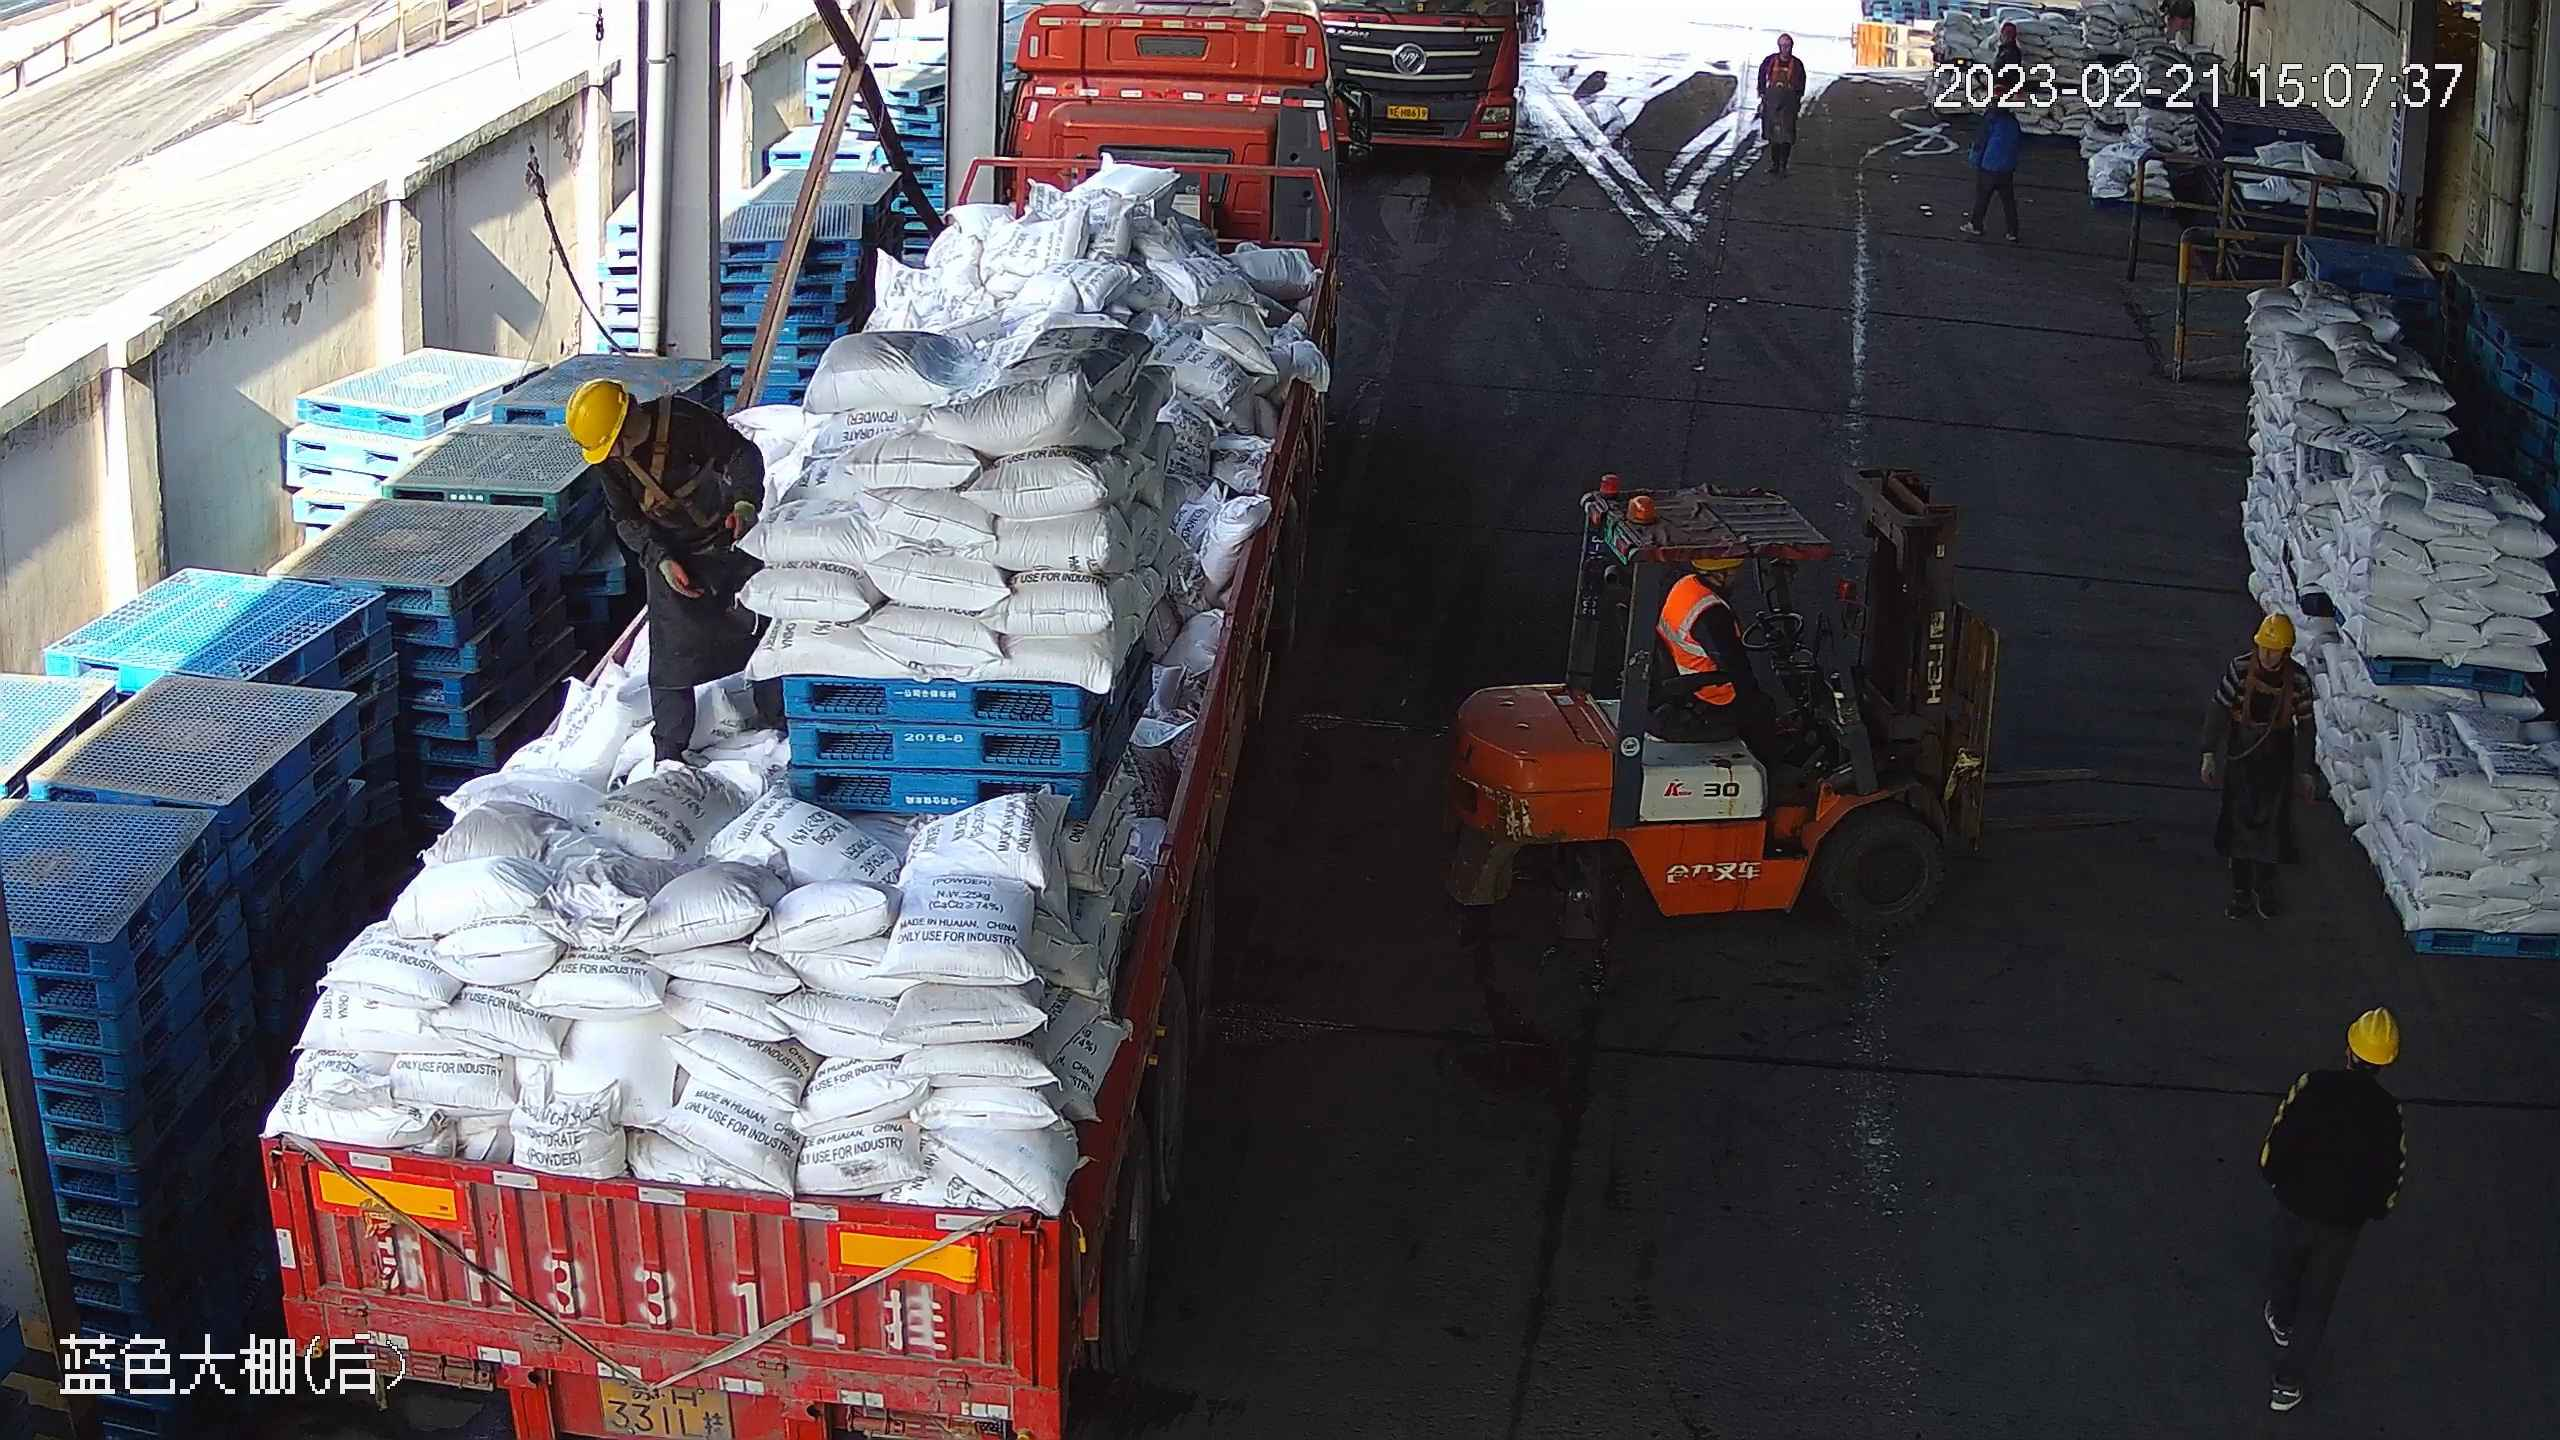belt: (626, 396, 717, 526), (2239, 661, 2301, 723), (1768, 56, 1799, 83)
head: (569, 383, 758, 505), (2276, 998, 2411, 1127), (2218, 615, 2316, 710), (1669, 550, 1753, 645), (1976, 84, 2031, 137), (1758, 33, 1809, 79)
helmet: (553, 374, 634, 465), (2349, 1002, 2405, 1069), (2254, 614, 2303, 654), (1770, 30, 1800, 42)
people: (555, 377, 773, 779), (2263, 992, 2425, 1420), (2210, 615, 2321, 921), (1668, 560, 1796, 753), (1973, 77, 2036, 251), (1751, 31, 1812, 170)
truck: (248, 18, 1327, 1440), (1314, 1, 1555, 178)
